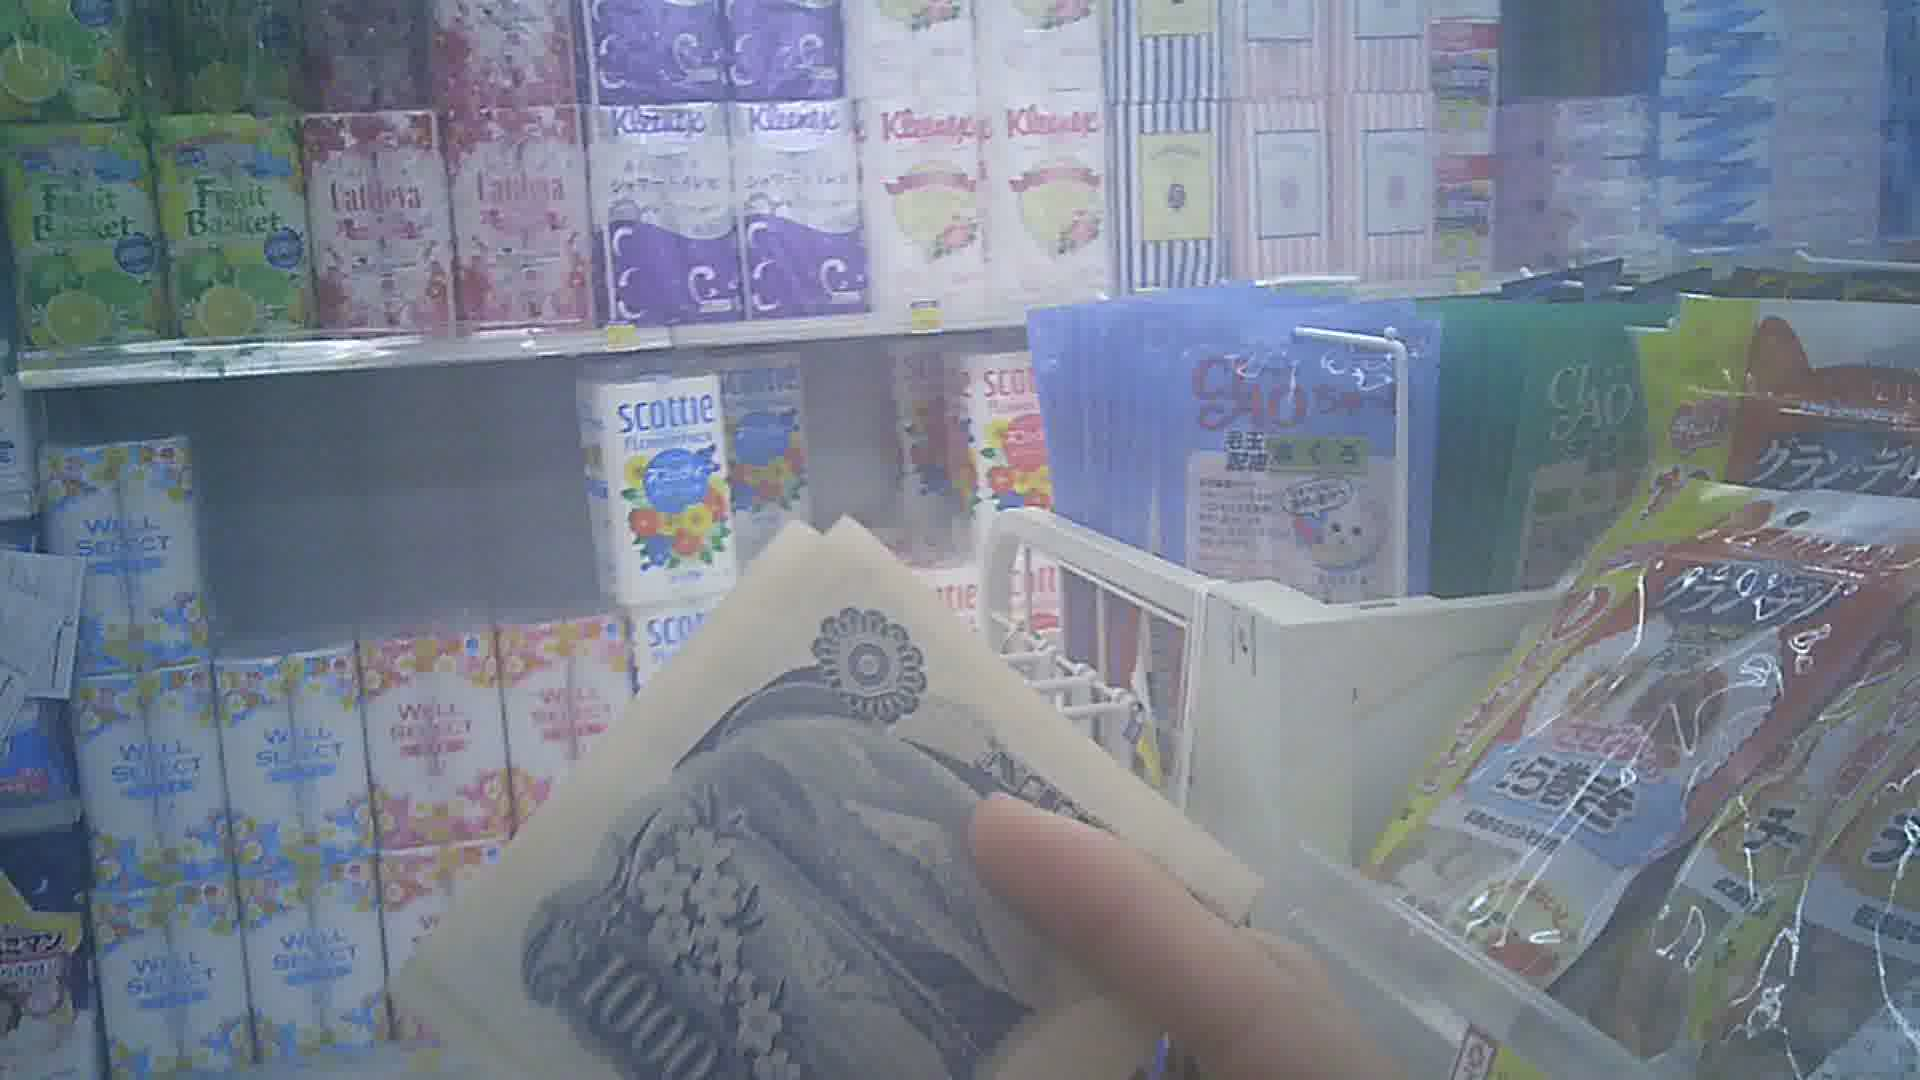1,000 Yen: (400, 506, 1225, 1073)
